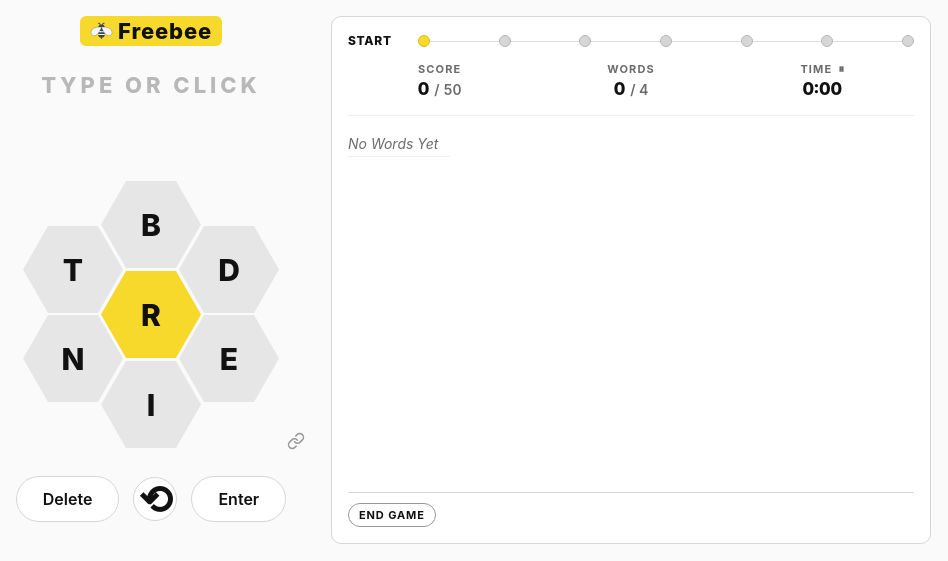
Test: Game interactions › Shuffle still works after the game has ended
The image size is (948, 561).
Click the button "End game" at (392, 515), box x1=348 y1=503 x2=436 y2=527
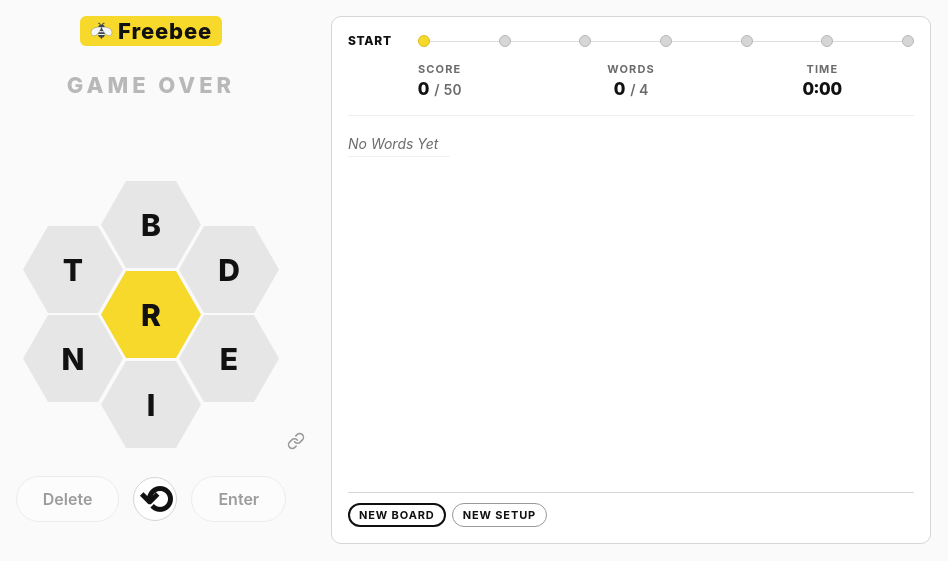
Click the button named "Shuffle" at (155, 499), box x1=133 y1=477 x2=177 y2=521
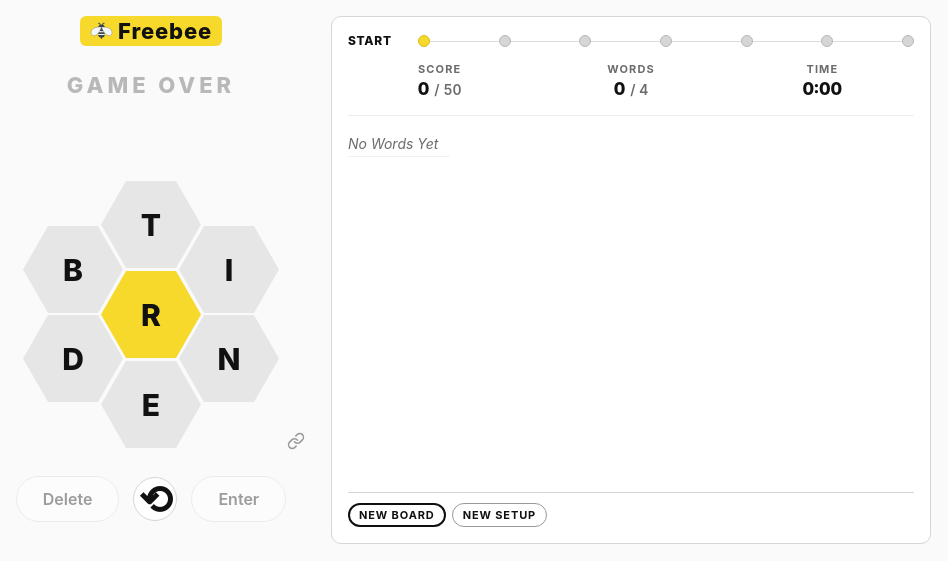
Expected: the text "B" is shown, x1=63 y1=252 x2=83 y2=288
Expected: the text "D" is shown, x1=62 y1=340 x2=84 y2=376
Expected: the text "E" is shown, x1=142 y1=386 x2=160 y2=422
